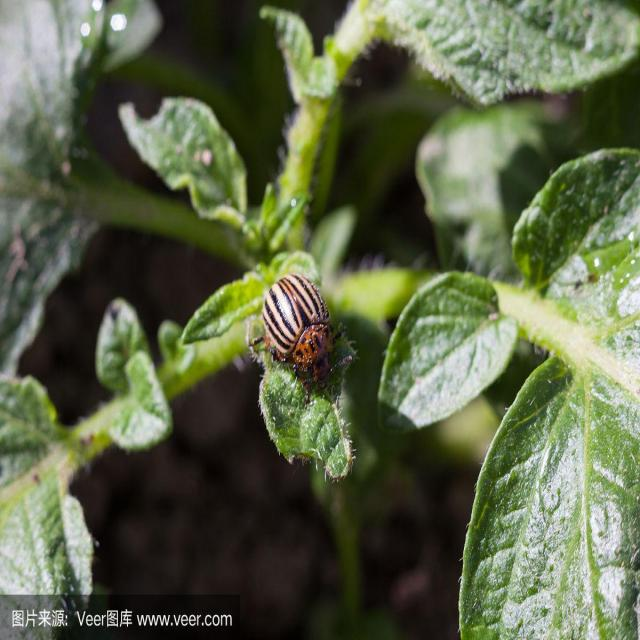ShuCaiHuaBanChong-Grown-: (249, 262, 345, 411)
